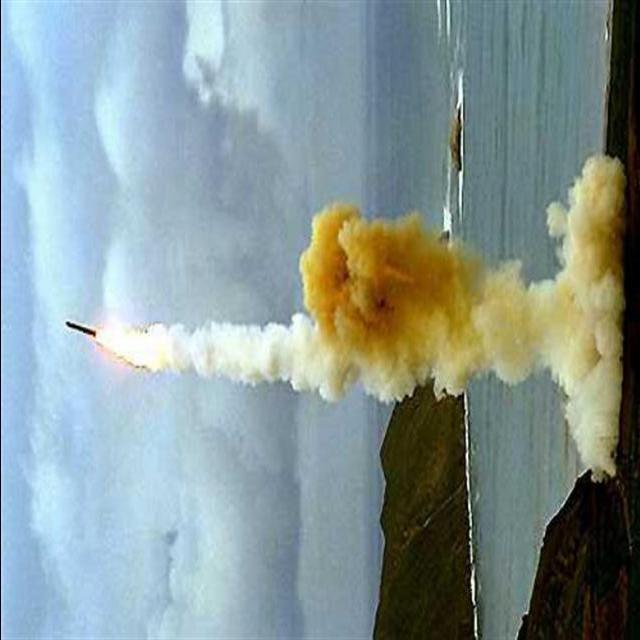missile: (63, 323, 102, 335)
